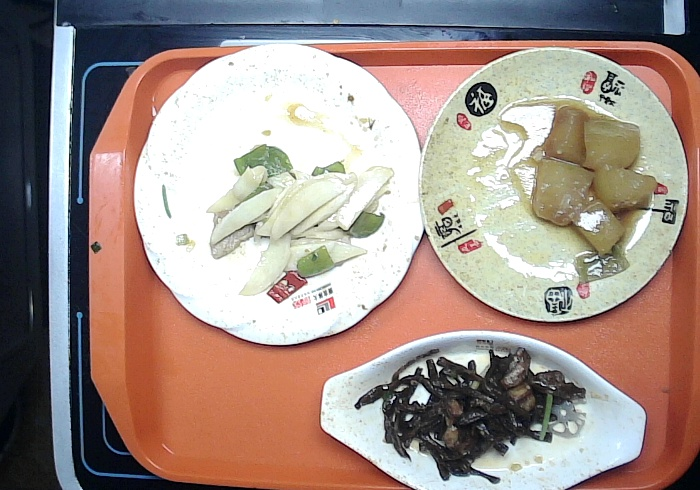NLDX-Bai_Zhe_Yuan_Pan: (132, 41, 428, 350)
NLDX-Fu_Zi_Yuan_Pan: (417, 43, 692, 325)
NLDX-Yu_Pan: (319, 331, 645, 490)
